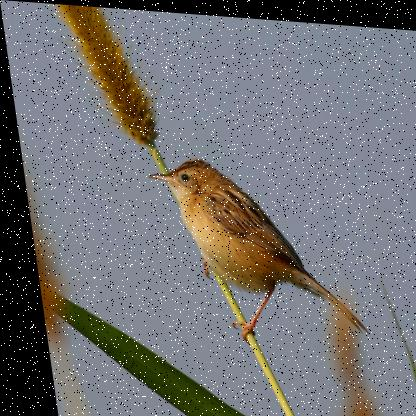Burung: (142, 152, 363, 347)
